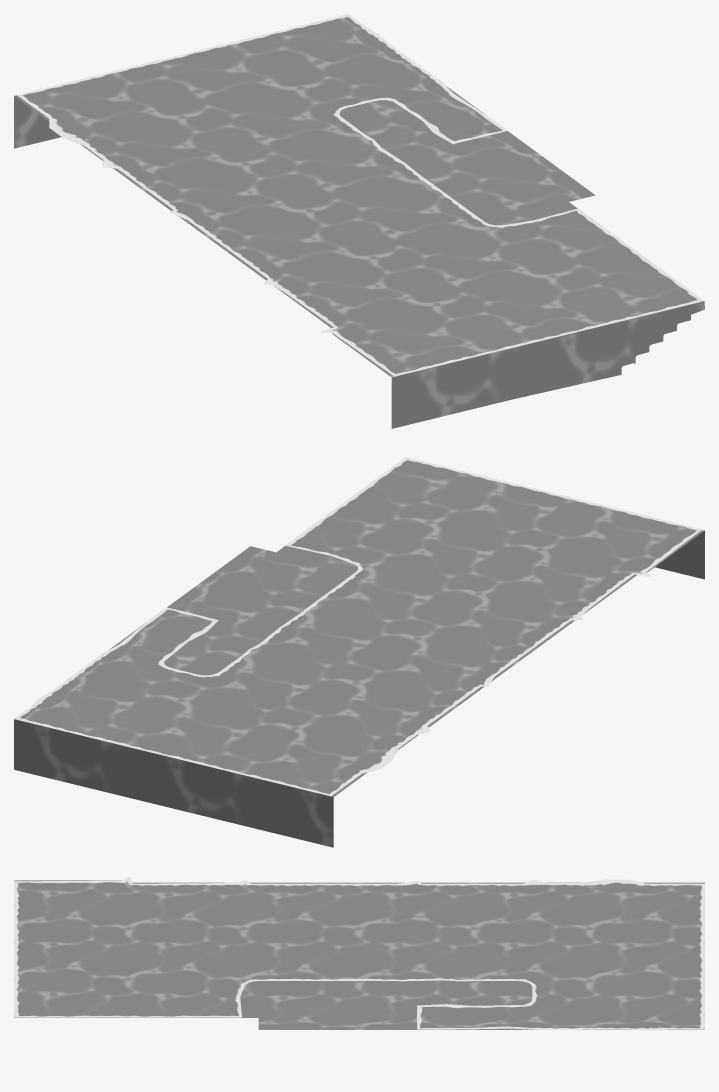
File: water.obj
3 views of the same model, one above another, from view 1: azimuth 30°, elevation 25°; view 2: azimuth 150°, elevation 25°; view 3: azimuth 270°, elevation 25° (orthographic). The views are drawn at different scales.
Parts seen in each view (by area): view 1: A_River3__River_00, A_River3__RiverSide_00, shape0__WaterEdge00; view 2: A_River3__River_00, A_River3__RiverSide_00, shape0__WaterEdge00; view 3: A_River3__River_00, shape0__WaterEdge00.
Part boxes in pixels (x1,y1,x2,y2): A_River3__River_00: [14, 17, 703, 377]; A_River3__RiverSide_00: [14, 96, 704, 428]; shape0__WaterEdge00: [17, 14, 703, 376]; A_River3__River_00: [15, 460, 704, 797]; A_River3__RiverSide_00: [14, 531, 704, 847]; shape0__WaterEdge00: [14, 457, 701, 796]; A_River3__River_00: [14, 880, 704, 1029]; shape0__WaterEdge00: [14, 876, 704, 1030].
Size of the model in its own units: 12.67 by 1.85 by 24.
Materials: 3 (3 with a texture image).
